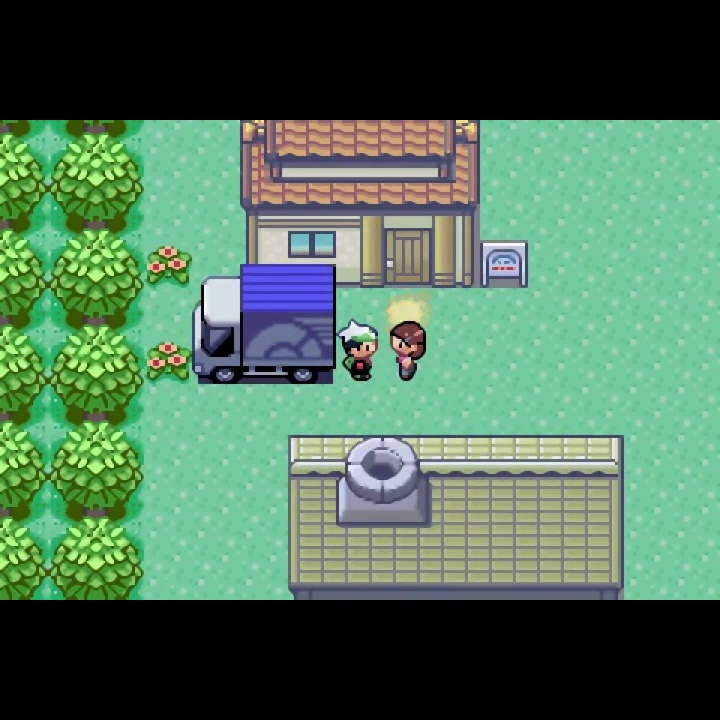house: (284, 430, 627, 599), (238, 120, 481, 292)
npc: (336, 317, 380, 384), (388, 318, 429, 385)
wall: (49, 228, 144, 329), (49, 133, 144, 233), (49, 327, 144, 424), (50, 422, 144, 520), (50, 518, 144, 599), (1, 229, 50, 331), (1, 134, 50, 234), (1, 326, 49, 426), (1, 422, 50, 518), (1, 518, 50, 600), (49, 121, 144, 146), (1, 120, 50, 147)
